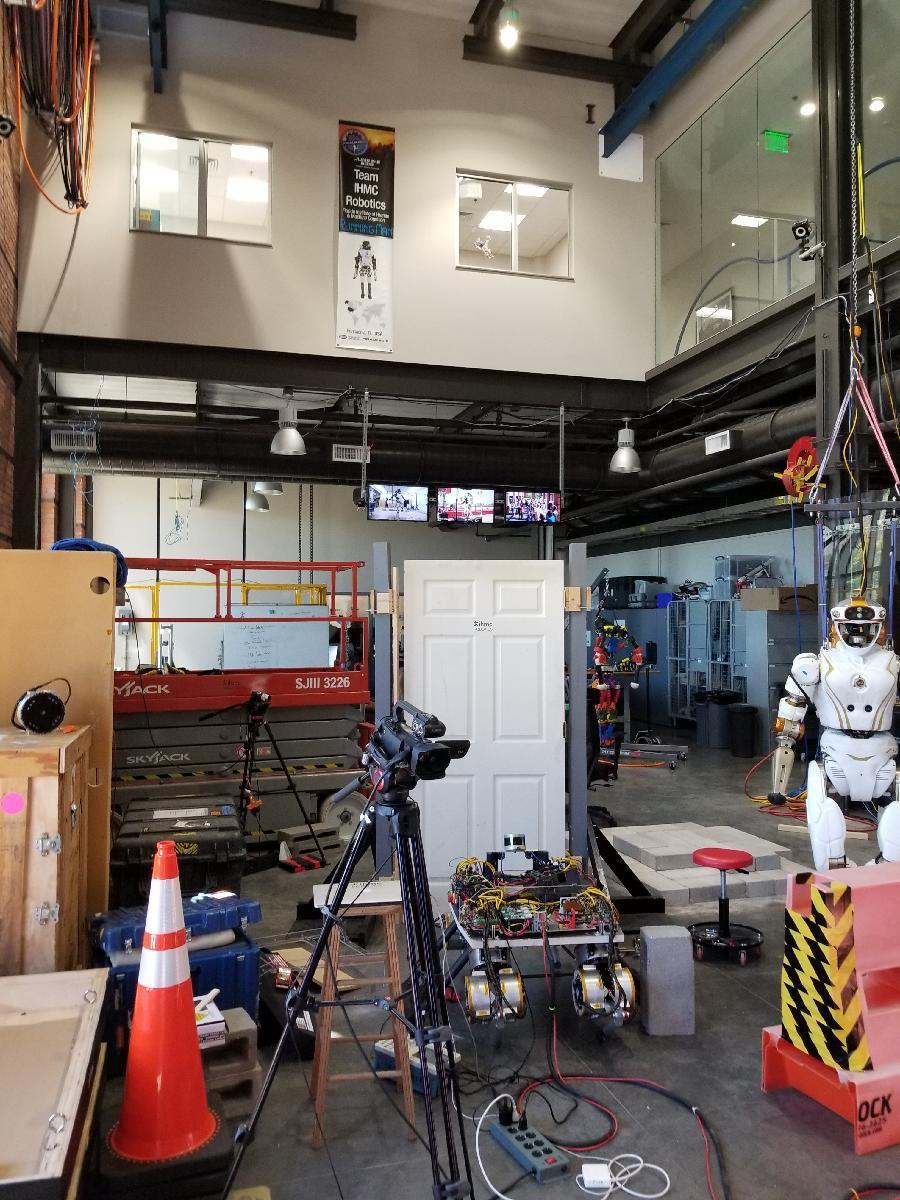door: (406, 553, 574, 945)
